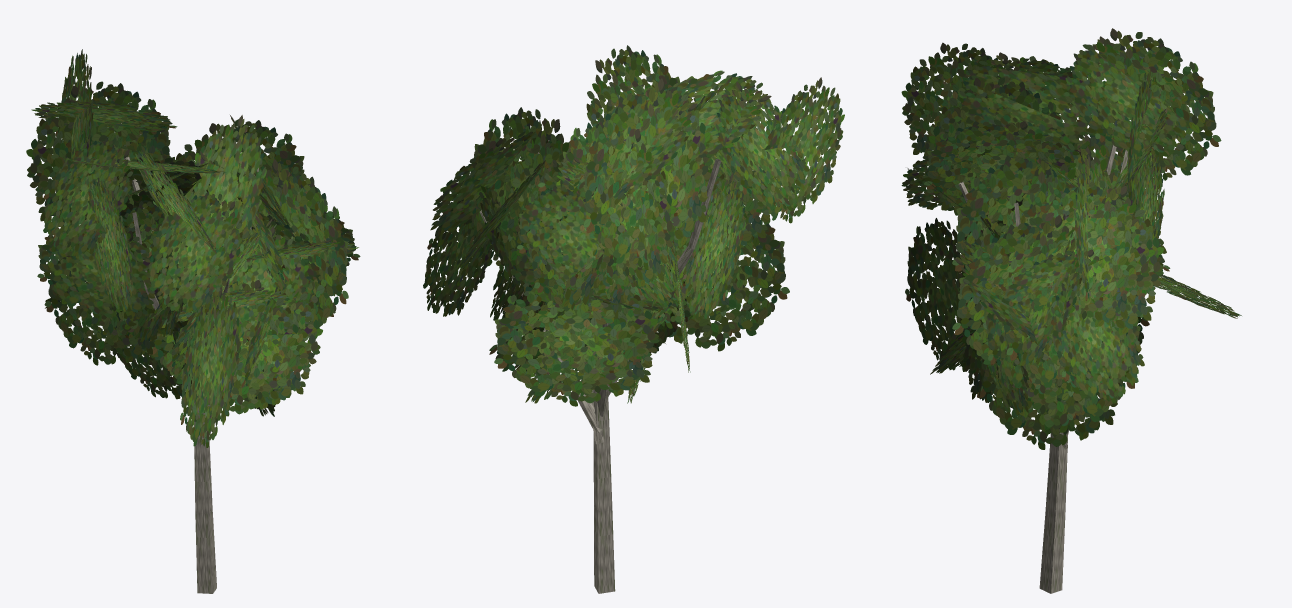
Rendered from Tree_Beech_3_LOD2.gltf.
3 views of the same model, side by side, from view 1: azimuth 30°, elevation 25°; view 2: azimuth 150°, elevation 25°; view 3: azimuth 270°, elevation 25° (orthographic). The views are drawn at different scales.
Visible parts, largest first — view 1: Tree_Beech_3_LOD2; view 2: Tree_Beech_3_LOD2; view 3: Tree_Beech_3_LOD2.
Boxes of the visible parts, x1,y1,x2,y2 form: Tree_Beech_3_LOD2: (26,49,360,593); Tree_Beech_3_LOD2: (423,45,844,593); Tree_Beech_3_LOD2: (901,28,1241,593).
Bounding box in the file's own units: 14.97 × 22.09 × 15.16.
2 materials, 2 textured.
